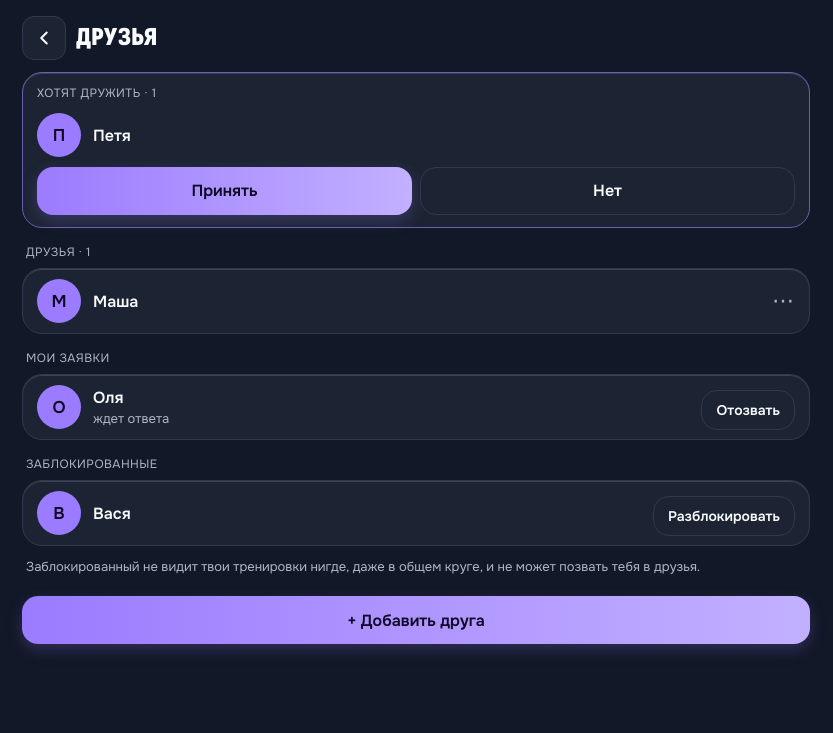
Scenario: FriendsScreen — списки › ошибка сервера — баннер с текстом, список на месте
The width and height of the screenshot is (833, 733).
What coordinates should you click on to do the following:
click the button "Принять"
I would click on:
 (224, 191)
Its box is [37,167,412,215].
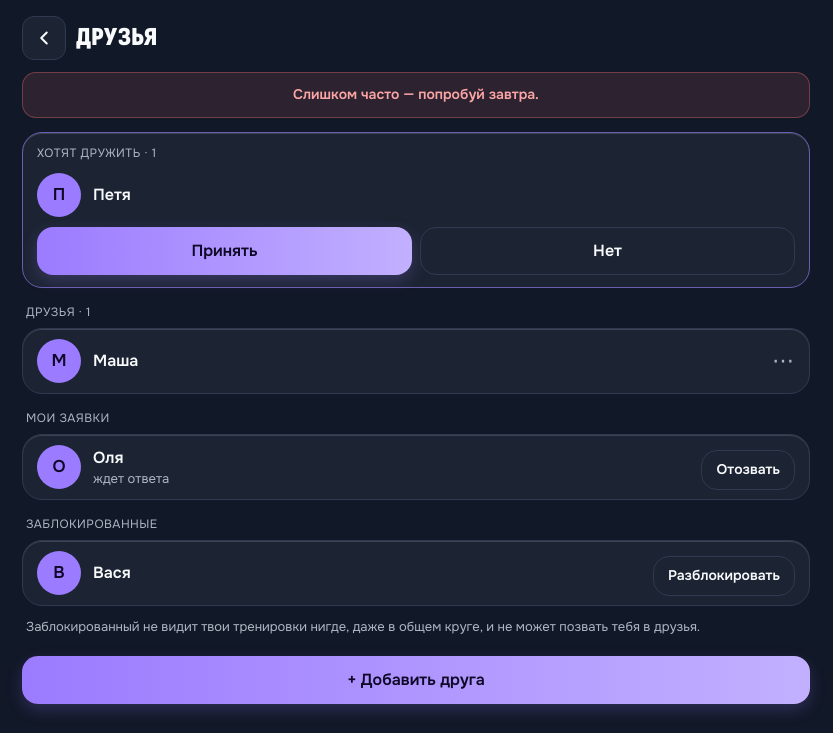
Expected: the text "Друзья · 1" is shown, [26,304,91,320]
Now the message shows "Слишком часто", box [293,85,539,103]
